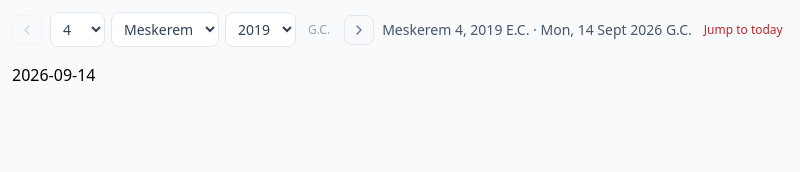
Test: DateNav is E.C.-first and stores the Gregorian key › a choice past the allowed range is clamped to it
The image size is (800, 172).
Select "Pagumen" in the dropdown named "Ethiopian month" at (165, 30), box left=111, top=12, right=219, bottom=47
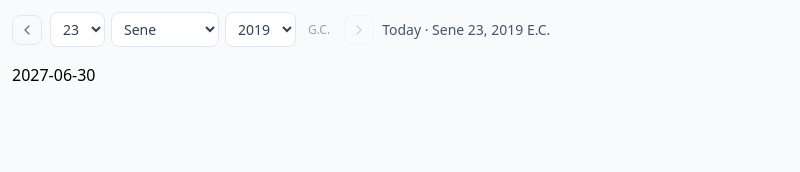
Now the text with test id "key" reads "2027-06-30", box left=12, top=64, right=96, bottom=86
